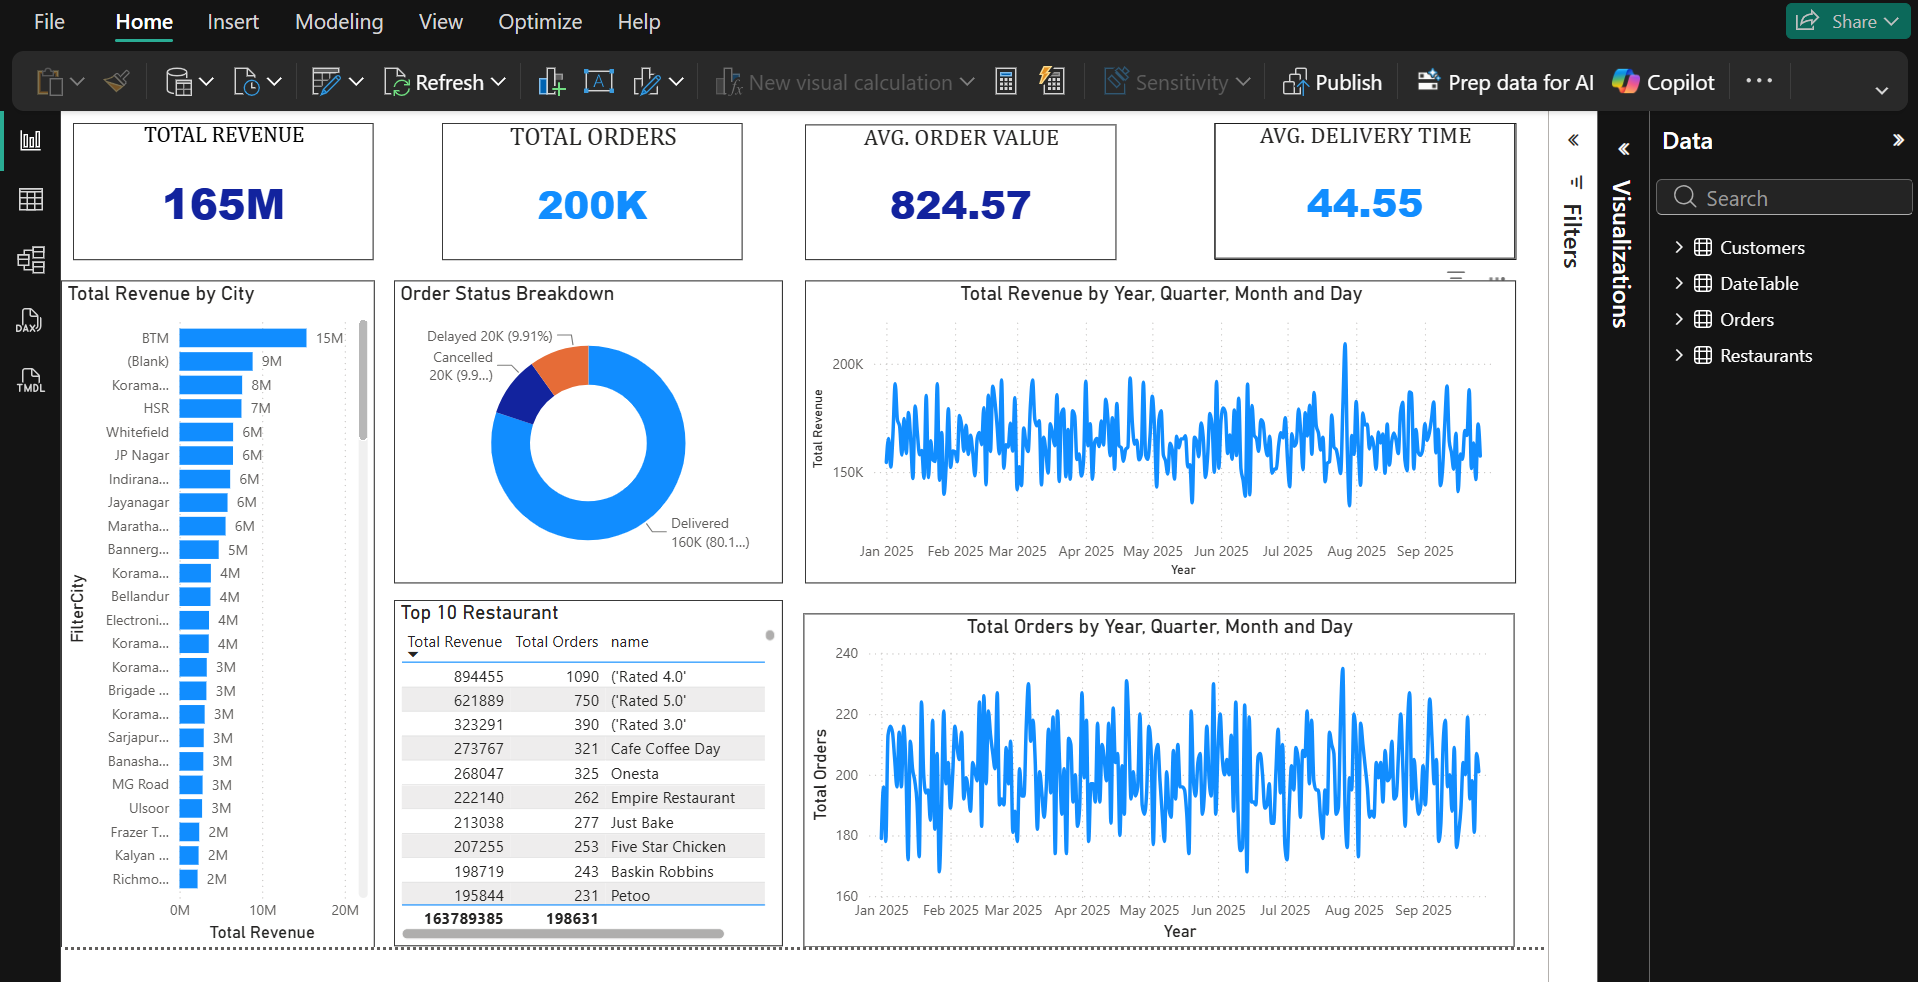

This screenshot's page, from the dashboard's own definition file:
{"tool":"powerbi","page":{"name":"Executive overview","canvas":[1280,720],"ordinal":0},"visuals":[{"type":"card","title":"TOTAL REVENUE","fields":{"Values":["Orders.Total Revenue"]},"box":[10.6,10.6,258.9,118.1],"z":0},{"type":"card","title":"TOTAL ORDERS","fields":{"Values":["Orders.Total Orders"]},"box":[328.6,10.6,258.9,118.1],"z":1000},{"type":"card","title":"AVG. ORDER VALUE","fields":{"Values":["Orders.Avg Order Value"]},"box":[640.5,12.1,268,116.6],"z":2000},{"type":"card","title":"AVG. DELIVERY TIME","fields":{"Values":["Orders.Avg Delivery Time"]},"box":[993.3,10.6,258.9,116.6],"z":3000},{"type":"lineChart","fields":{"Y":["Orders.Total Revenue"],"Category":["DateTable.Date.Variation.Date Hierarchy.Year","DateTable.Date.Variation.Date Hierarchy.Quarter","DateTable.Date.Variation.Date Hierarchy.Month","DateTable.Date.Variation.Date Hierarchy.Day"]},"box":[640.6,145.5,612.3,260.8],"z":4000},{"type":"lineChart","fields":{"Y":["Orders.Total Orders"],"Category":["DateTable.Date.Variation.Date Hierarchy.Year","DateTable.Date.Variation.Date Hierarchy.Quarter","DateTable.Date.Variation.Date Hierarchy.Month","DateTable.Date.Variation.Date Hierarchy.Day"]},"box":[638.7,432.8,612.3,287.2],"z":5000},{"type":"barChart","title":"Total Revenue by City","fields":{"Category":["Customers.FilterCity"],"Y":["Orders.Total Revenue"]},"box":[0,145.5,270.2,574.5],"z":6000},{"type":"donutChart","title":"Order Status Breakdown","fields":{"Y":["Orders.Total Orders"],"Category":["Orders.OrderStatus"]},"box":[286.2,145.4,334.6,260.4],"z":7000},{"type":"tableEx","title":"Top 10 Restaurant","fields":{"Values":["Orders.Total Revenue","Orders.Total Orders","Restaurants.name"]},"box":[286.2,420.9,334.6,298.3],"z":8000}]}

Visuals, with their boxes on the page's 1280x720 design canvas (x1, y1, x2, y2). These are canvas units, not pixel positions in the 1918x982 screenshot, which may show the page scaled, cropped or inside an application window:
"TOTAL REVENUE" card: locate(11, 11, 270, 129)
"TOTAL ORDERS" card: locate(329, 11, 588, 129)
"AVG. ORDER VALUE" card: locate(640, 12, 908, 129)
"AVG. DELIVERY TIME" card: locate(993, 11, 1252, 127)
lineChart - Orders.Total Revenue x DateTable.Date.Variation.Date Hierarchy.Year: locate(641, 146, 1253, 406)
lineChart - Orders.Total Orders x DateTable.Date.Variation.Date Hierarchy.Year: locate(639, 433, 1251, 720)
"Total Revenue by City" barChart: locate(0, 146, 270, 720)
"Order Status Breakdown" donutChart: locate(286, 145, 621, 406)
"Top 10 Restaurant" tableEx: locate(286, 421, 621, 719)
